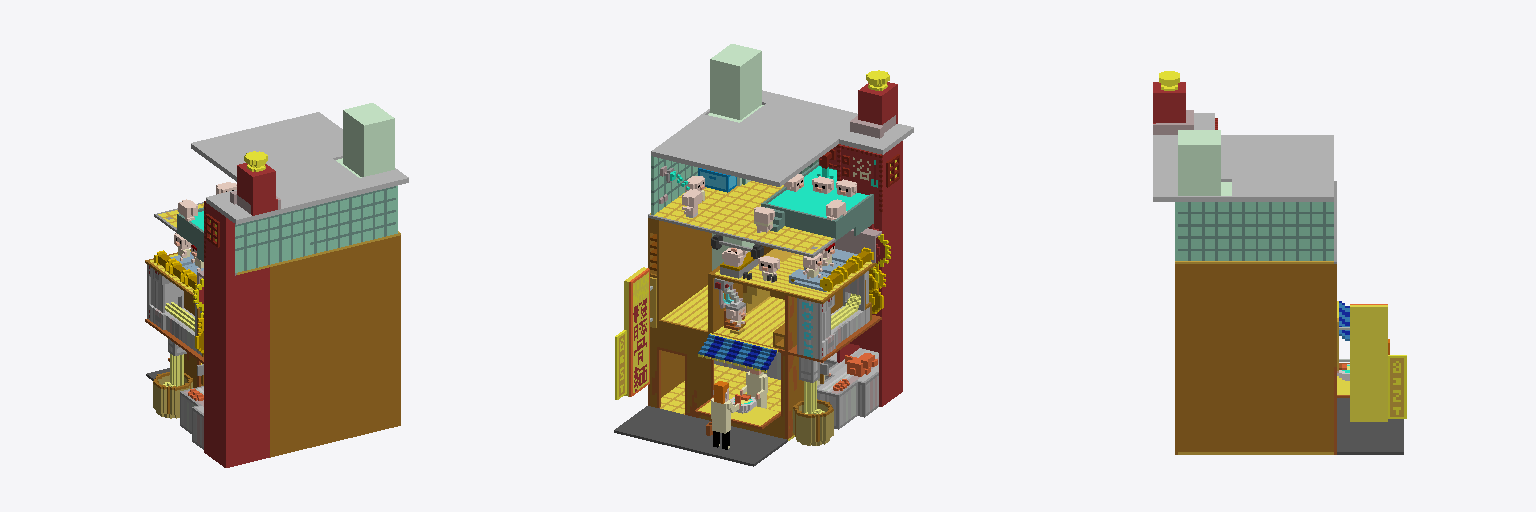
The picture shows the model from 3 angles: view 1: azimuth 30°, elevation 25°; view 2: azimuth 150°, elevation 25°; view 3: azimuth 270°, elevation 25°; orthographic projection.
Bounding box in the file's own units: 79 × 126 × 94.
Materials: 1 (1 with a texture image).